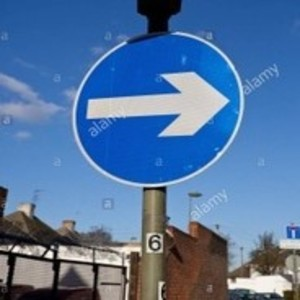trun_right: (71, 32, 244, 186)
